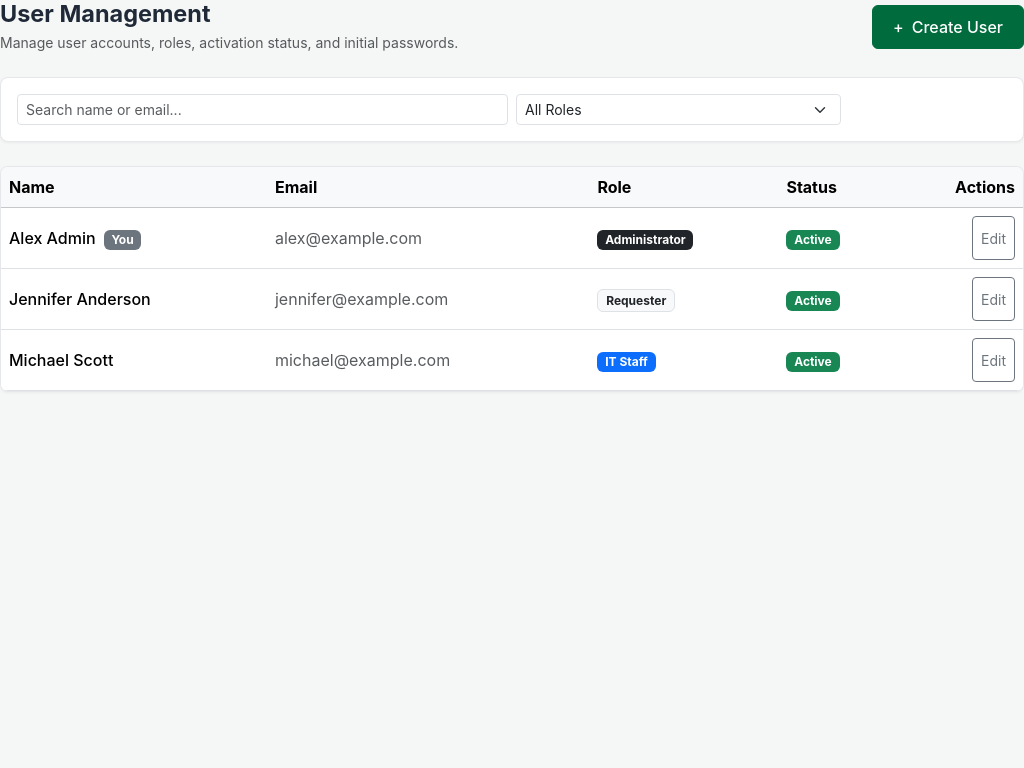
Test: UI-10 Administrator User Management Component › maps DUPLICATE_EMAIL error to email field during user creation
Check: the text "Alex Admin" is shown, box [9,228,96,248]
Step 1. Click the button "+ Create User" → (948, 27), box [872,5,1023,49]
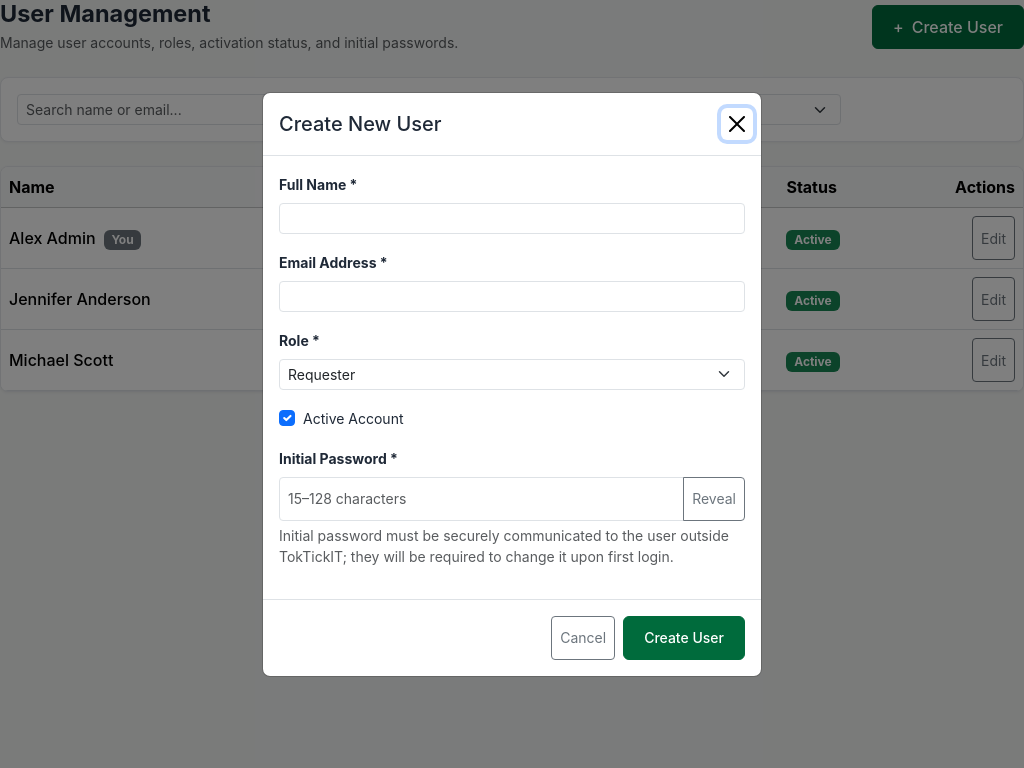
Step 2. Type "Duplicate Person" into the field labelled "Full Name *" → (512, 218), box [279,202,745,234]
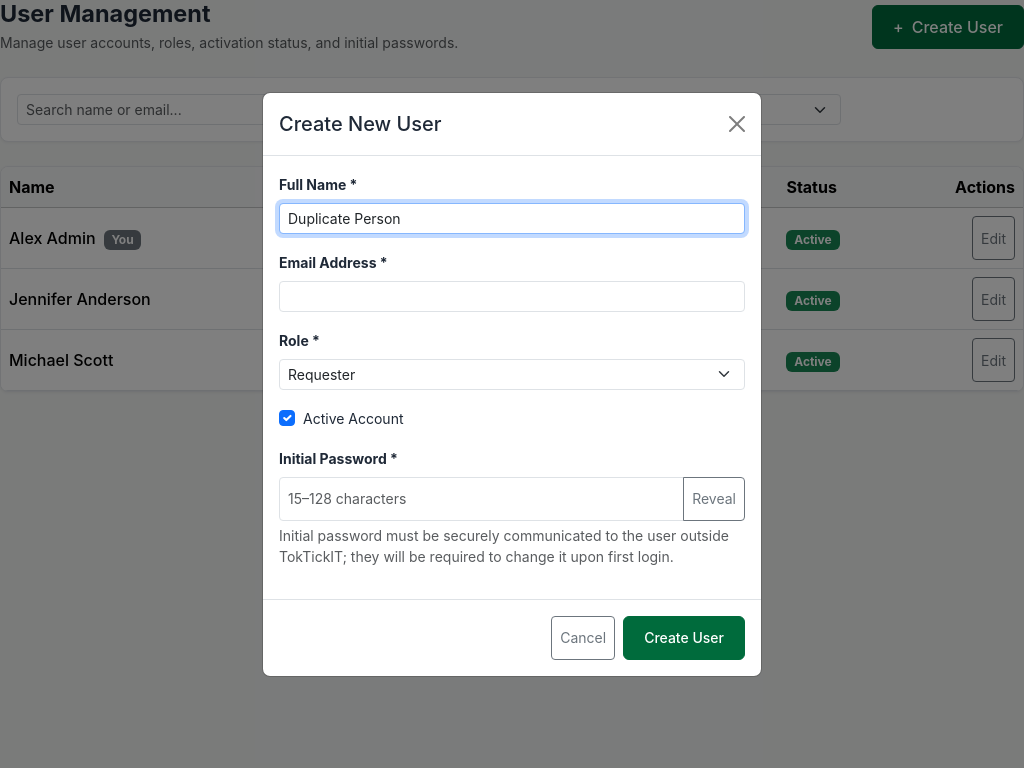
Step 3. Type "alex@example.com" into the field labelled "Email Address *" → (512, 296), box [279,280,745,312]
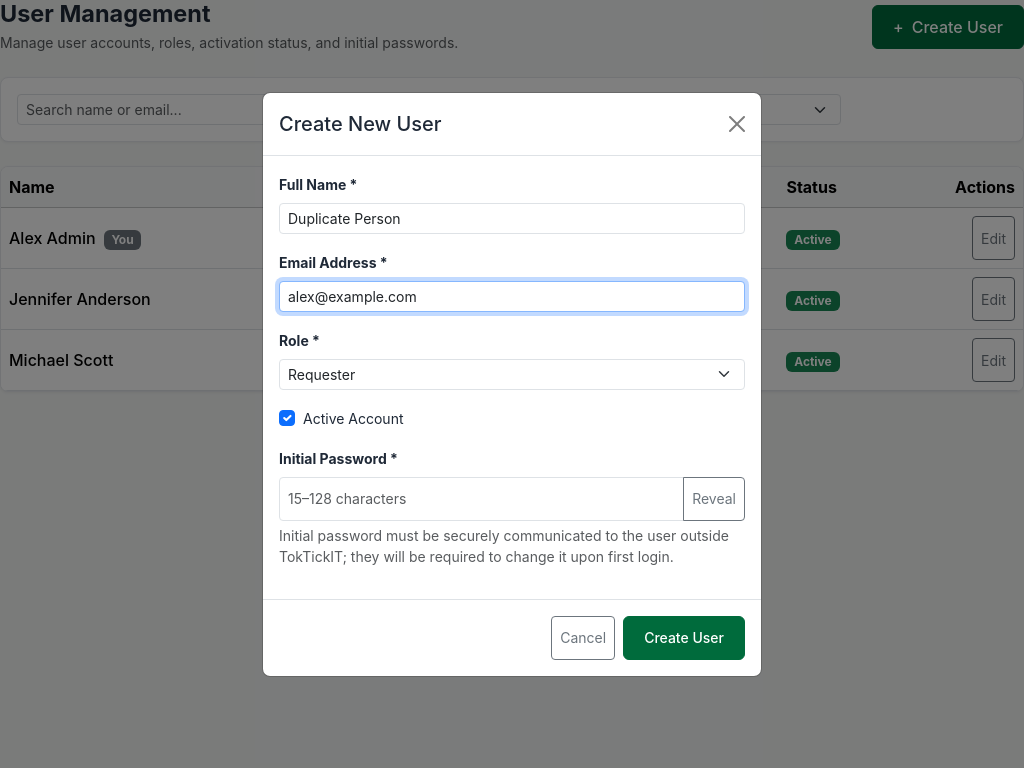
Step 4. Type "ValidPassword12345!" into the password field with placeholder "15–128 characters" → (482, 498), box [279,476,684,520]
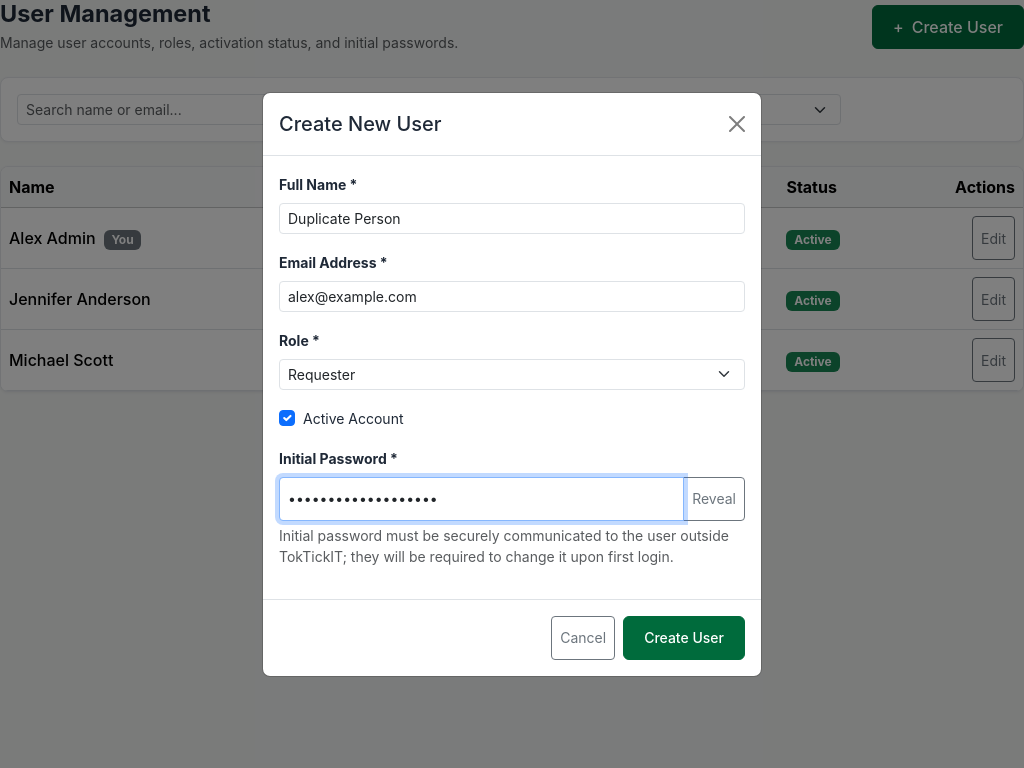
Step 5. Click the button "Create User" → (684, 638), box [623,616,745,660]
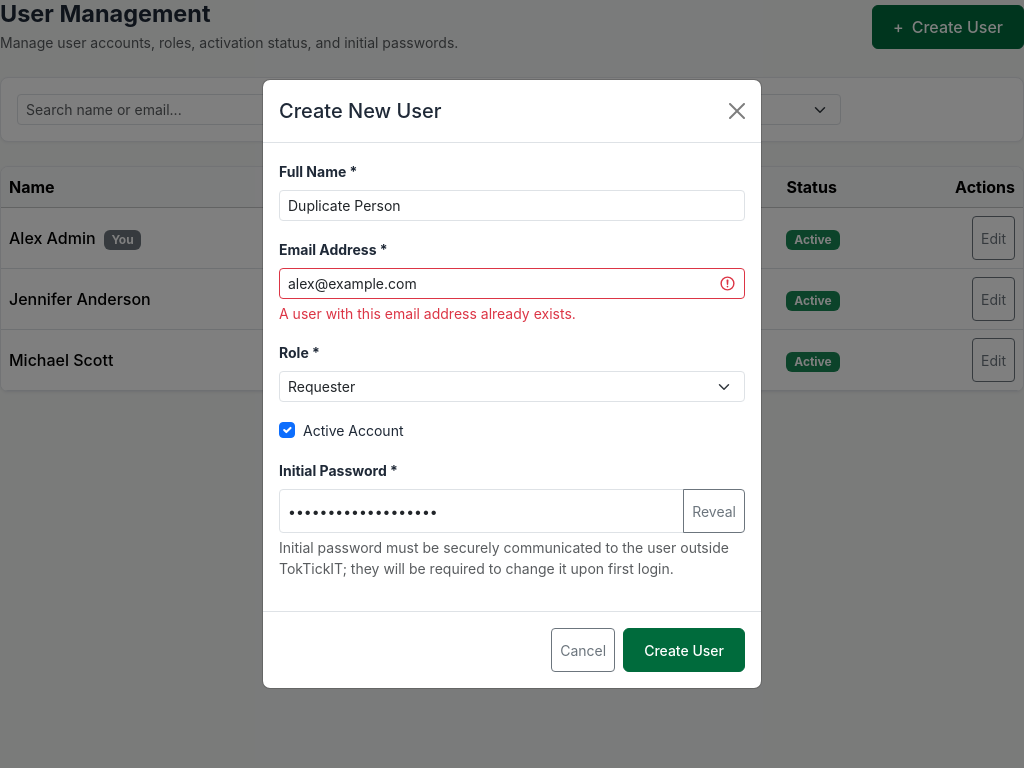
Check: the text "A user with this email address already exists." is shown, box [279,305,576,322]
